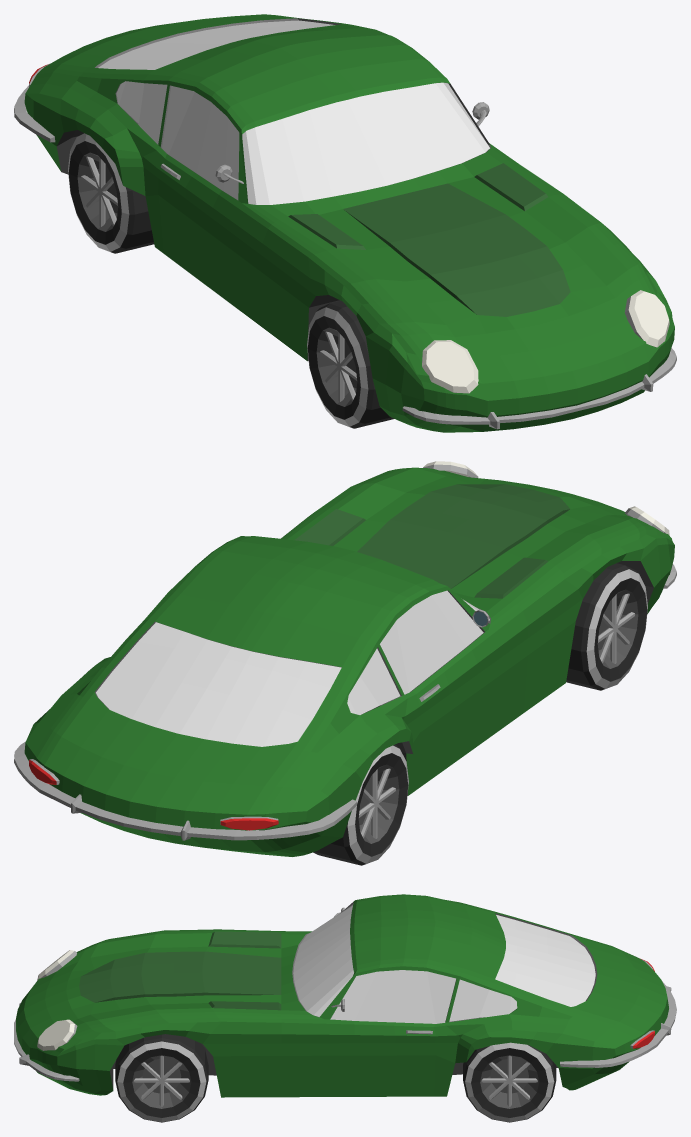
The model's file is Car_Classy_02.fbx.
3 renders of one model, top to bottom at view 1: azimuth 30°, elevation 25°; view 2: azimuth 150°, elevation 25°; view 3: azimuth 270°, elevation 25°, orthographic. The views are drawn at different scales.
Parts seen in each view (by area): view 1: Car_Classy_02, Wheel_Classic_02.F.R, Wheel_Classic_02.R.R; view 2: Car_Classy_02, Wheel_Classic_02.F.R, Wheel_Classic_02.R.R; view 3: Car_Classy_02, Wheel_Classic_02.F.L, Wheel_Classic_02.R.L..
Boxes of the visible parts, bbox=[...] form: Car_Classy_02: bbox=[14, 14, 676, 432]; Wheel_Classic_02.F.R: bbox=[307, 300, 394, 428]; Wheel_Classic_02.R.R: bbox=[68, 132, 154, 253]; Car_Classy_02: bbox=[14, 461, 676, 856]; Wheel_Classic_02.F.R: bbox=[566, 563, 647, 690]; Wheel_Classic_02.R.R: bbox=[313, 744, 408, 865]; Car_Classy_02: bbox=[14, 894, 676, 1097]; Wheel_Classic_02.F.L: bbox=[115, 1034, 208, 1122]; Wheel_Classic_02.R.L.: bbox=[463, 1042, 556, 1122].
Bounding box in the file's own units: 279 × 178 × 700.
